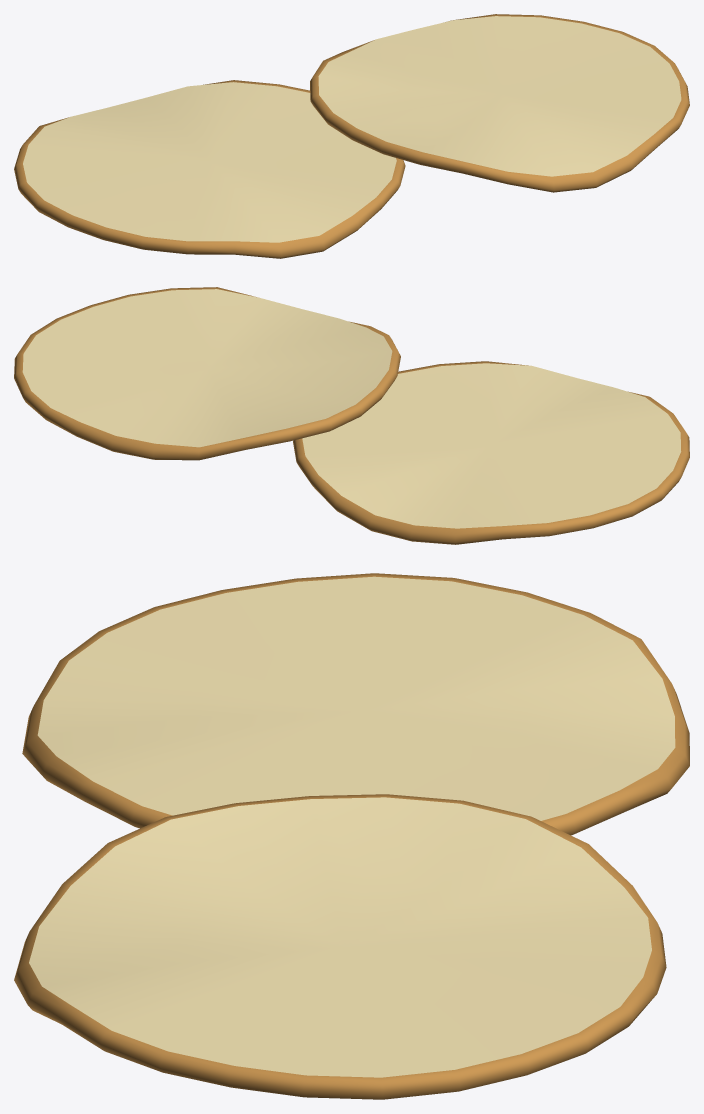
File: Food_Provolone.fbx
3 renders of one model, top to bottom at view 1: azimuth 30°, elevation 25°; view 2: azimuth 150°, elevation 25°; view 3: azimuth 270°, elevation 25°, orthographic. The views are drawn at different scales.
Visible parts, largest first — view 1: Cheese, Rind; view 2: Cheese, Rind; view 3: Cheese, Rind.
Part boxes in pixels (x1,y1,x2,y2): Cheese: (23, 16, 681, 242); Rind: (14, 14, 689, 258); Cheese: (22, 289, 681, 528); Rind: (14, 287, 689, 544); Cheese: (29, 576, 675, 1077); Rind: (14, 573, 689, 1099).
Bounding box in the file's own units: 179 × 9.84 × 98.21.
